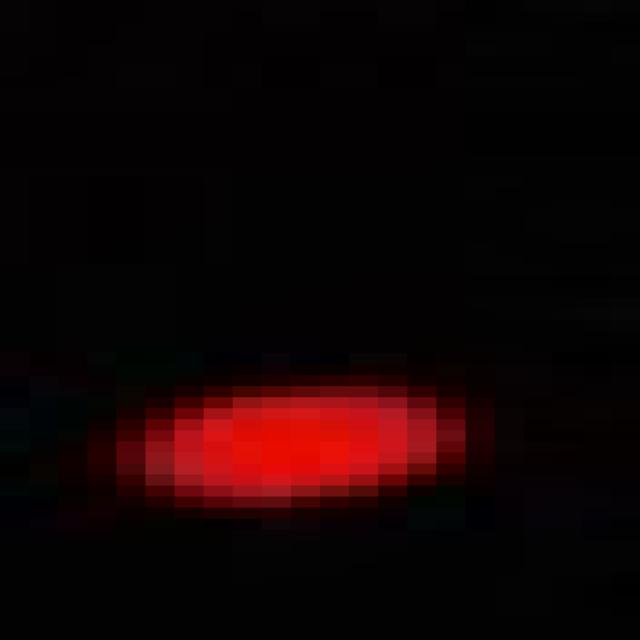.: (41, 334, 524, 549)
